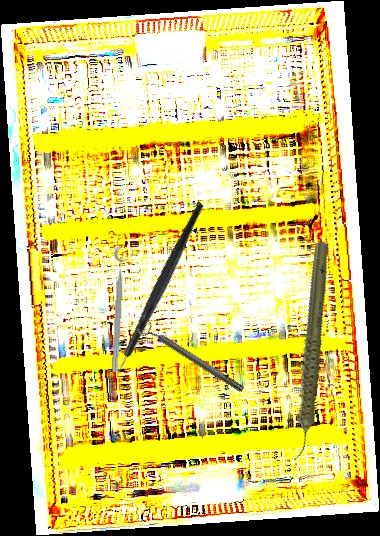Chopper: (63, 200, 258, 393)
Fixation Ring: (134, 316, 248, 399), (107, 246, 136, 373)
Handpiece: (245, 239, 373, 463)
